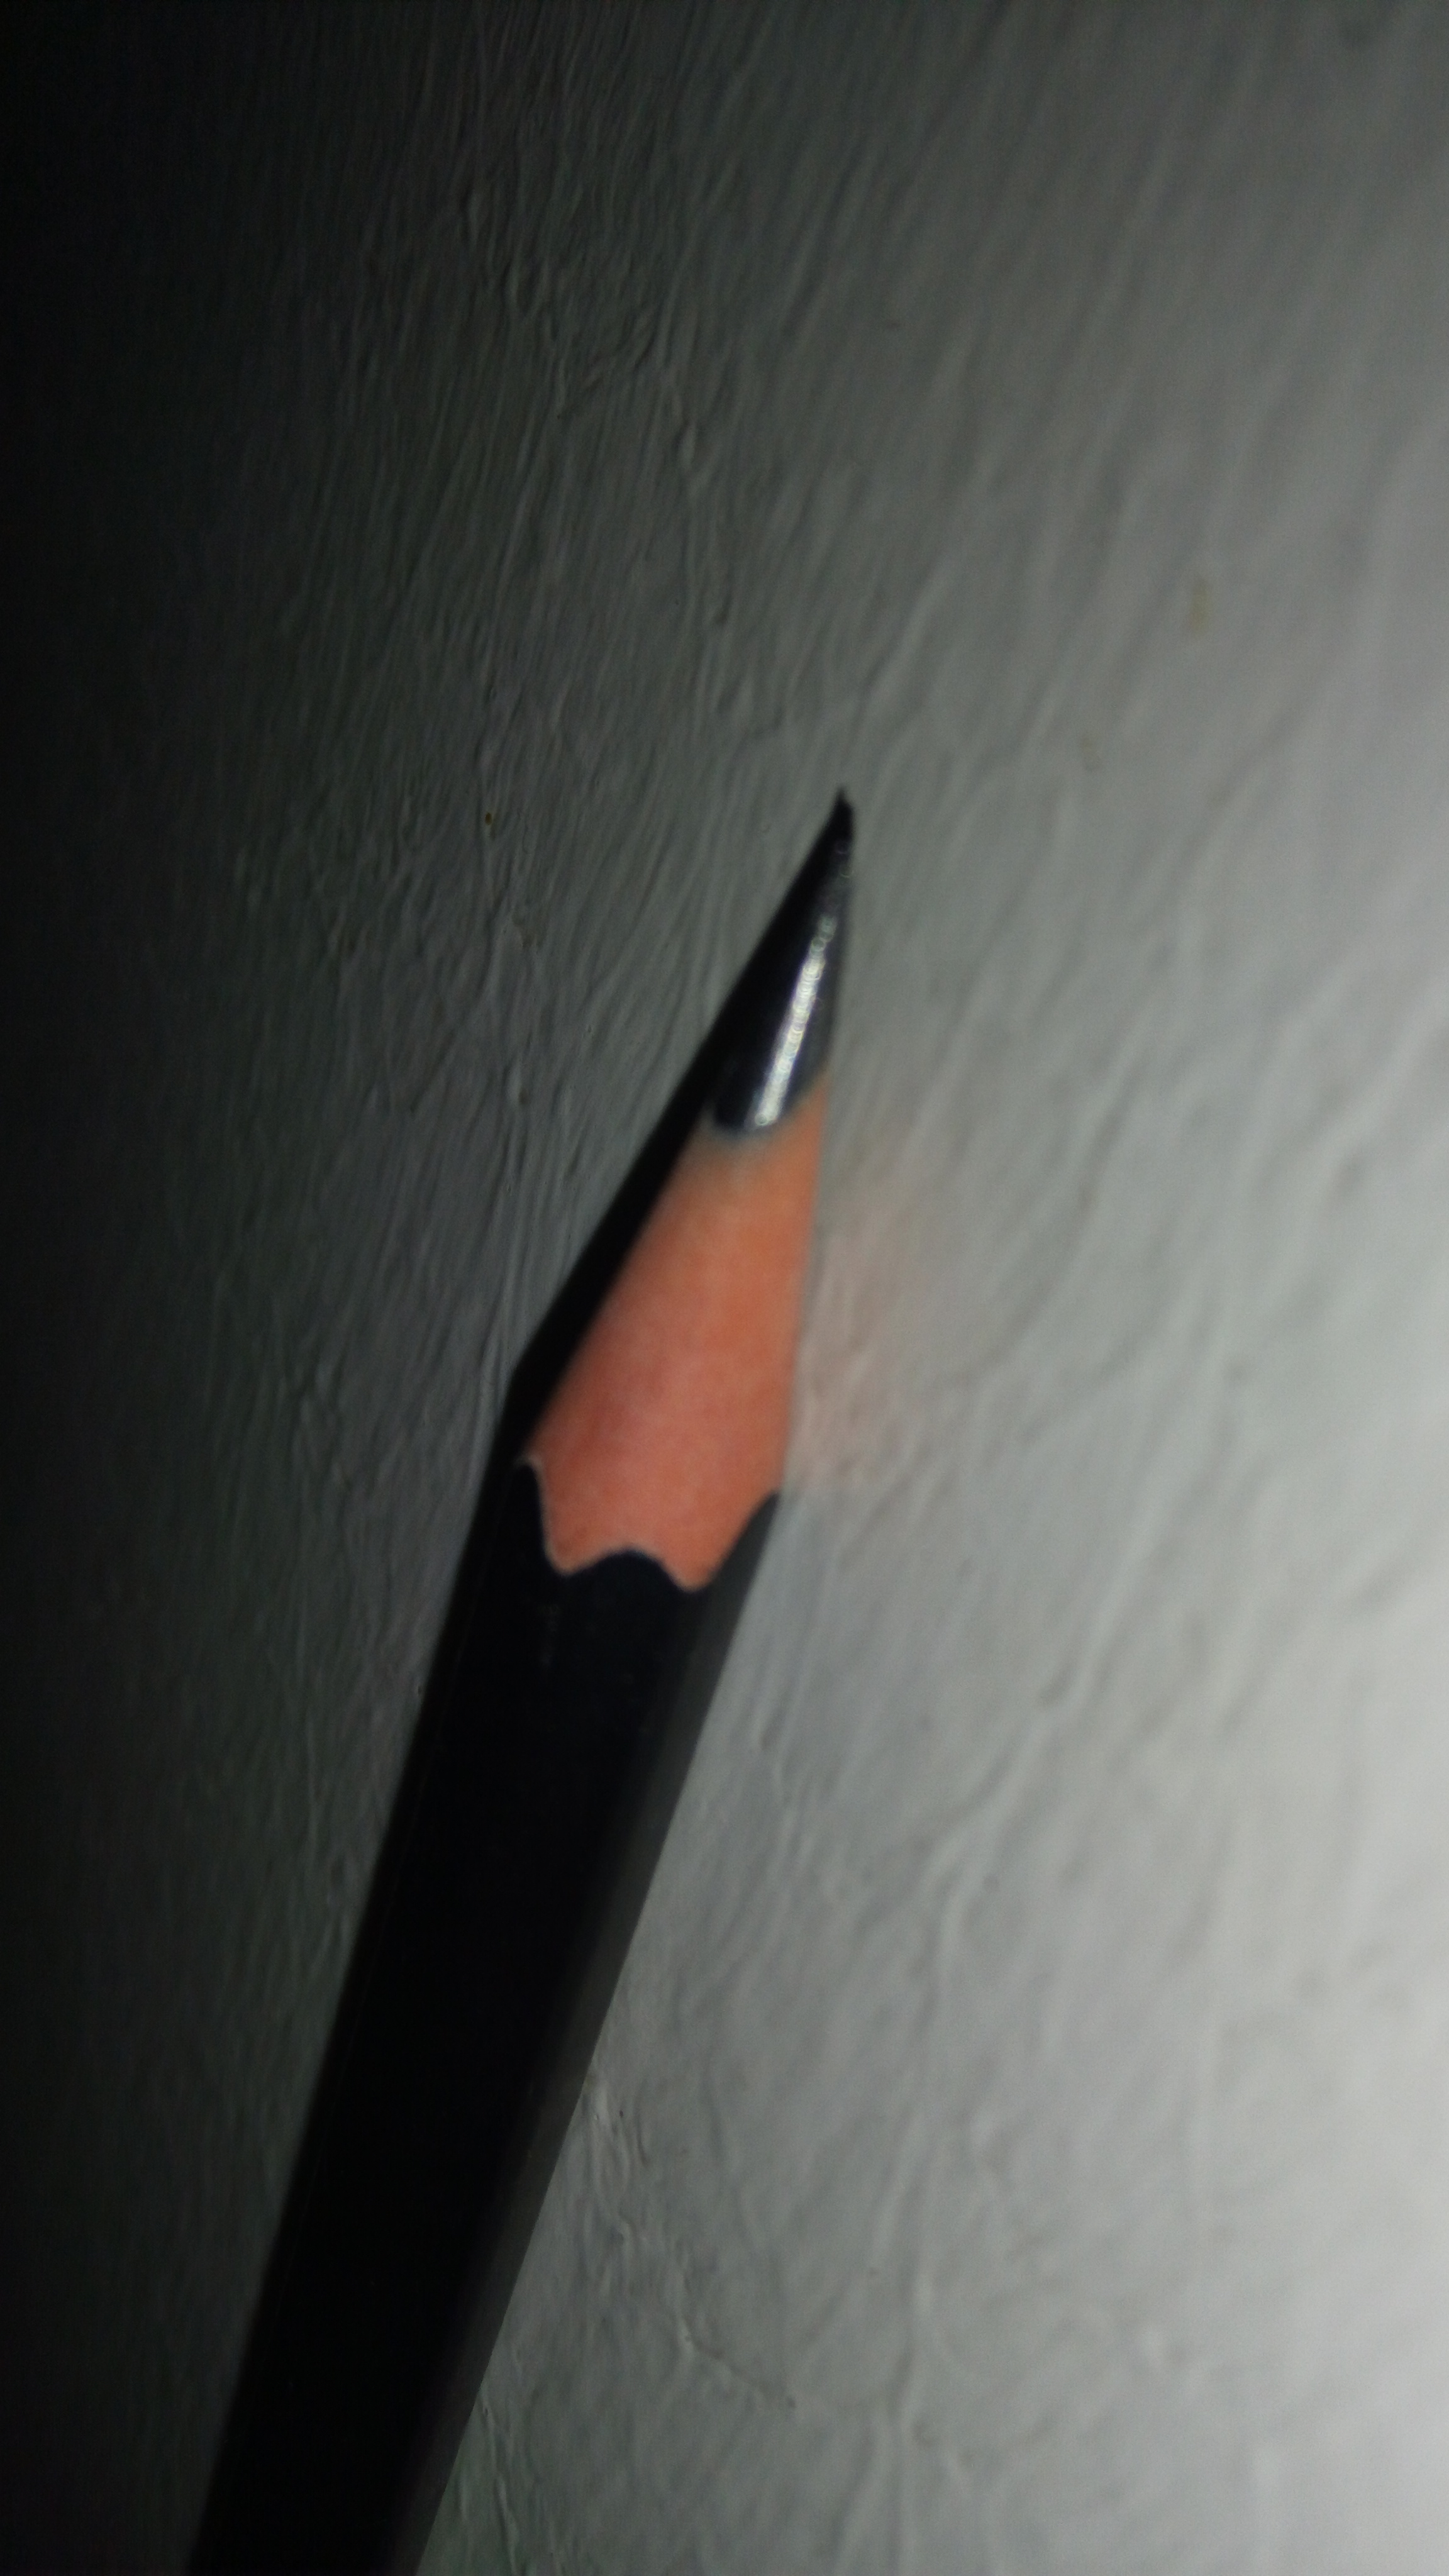pen_tip: (372, 676, 1085, 1716)
